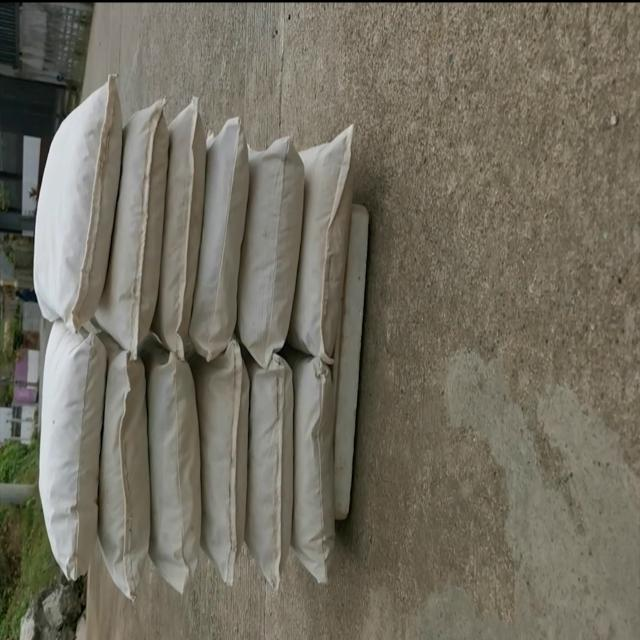Sack: (27, 71, 125, 325), (32, 323, 115, 587), (104, 88, 176, 356), (233, 126, 307, 363), (88, 347, 157, 598), (140, 356, 210, 602), (238, 359, 310, 598), (152, 86, 213, 359), (289, 115, 355, 363), (195, 112, 259, 363), (194, 354, 255, 589), (288, 354, 340, 591)
